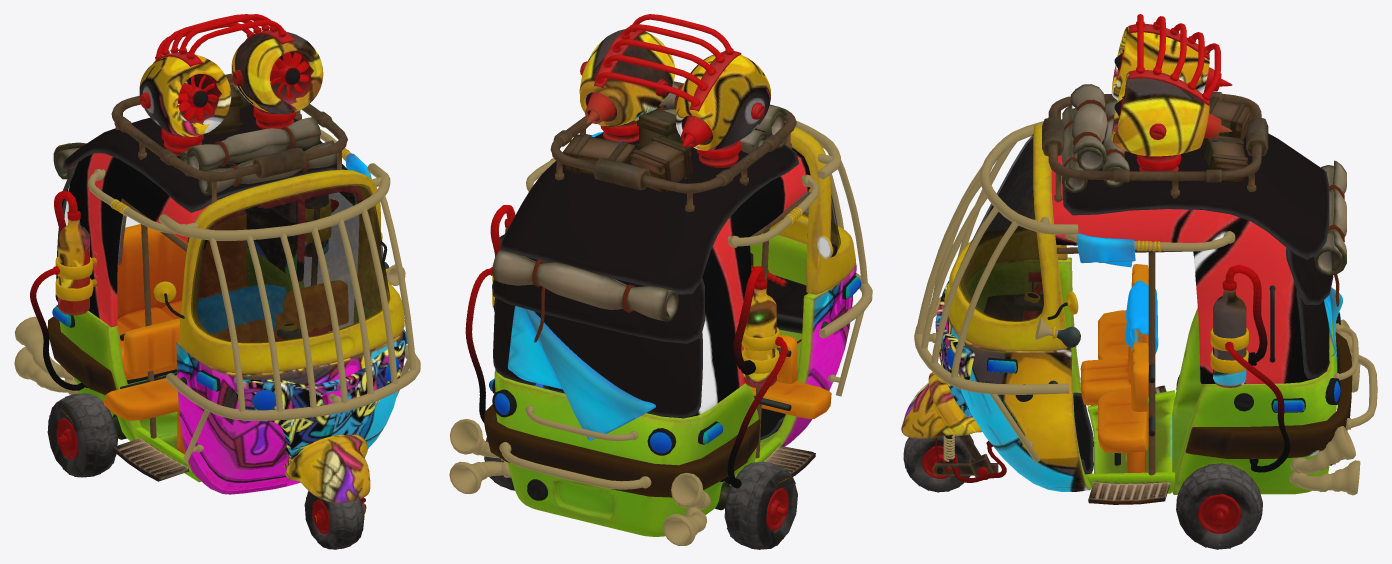
The model's file is rickshaw.glb.
3 views of the same model, side by side, from view 1: azimuth 30°, elevation 25°; view 2: azimuth 150°, elevation 25°; view 3: azimuth 270°, elevation 25° (orthographic). The views are drawn at different scales.
Parts seen in each view (by area): view 1: Rickshaw_Geometry, Wheel_RL, Wheel_F; view 2: Rickshaw_Geometry, Wheel_RL; view 3: Rickshaw_Geometry, Wheel_RR, Wheel_F.
Part boxes in pixels (x1,y1,x2,y2): Rickshaw_Geometry: [14, 14, 420, 514]; Wheel_RL: [47, 393, 117, 477]; Wheel_F: [304, 491, 364, 549]; Rickshaw_Geometry: [449, 14, 872, 545]; Wheel_RL: [724, 461, 797, 549]; Rickshaw_Geometry: [901, 14, 1377, 504]; Wheel_RR: [1176, 463, 1262, 549]; Wheel_F: [903, 434, 973, 492].
Bounding box in the file's own units: 1.48 × 2.14 × 2.
2 materials, 2 textured.
